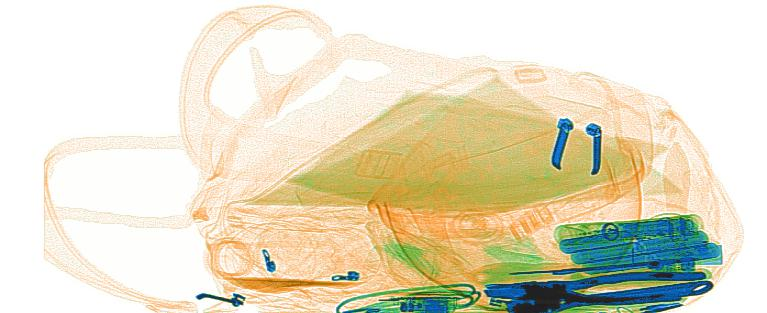battery: (558, 216, 719, 277)
